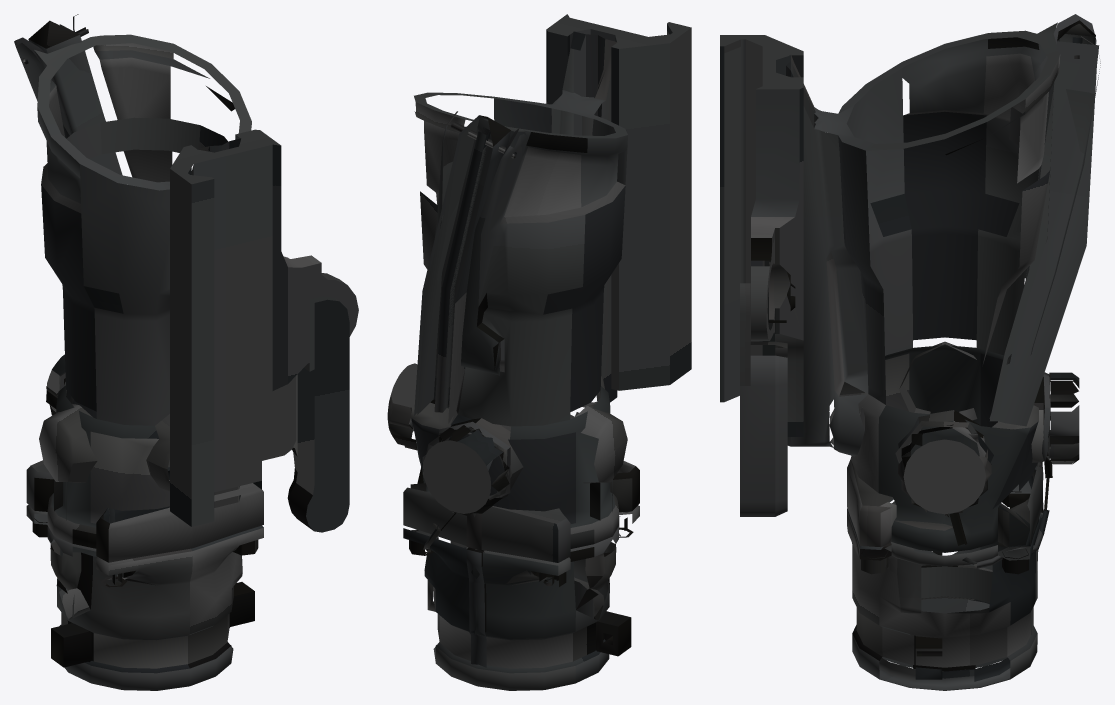
File: Optic_4x.fbx
3 views of the same model, side by side, from view 1: azimuth 30°, elevation 25°; view 2: azimuth 150°, elevation 25°; view 3: azimuth 270°, elevation 25° (orthographic). The views are drawn at different scales.
Visible parts, largest first — view 1: asset_Optic_4x.001; view 2: asset_Optic_4x.001; view 3: asset_Optic_4x.001.
Boxes of the visible parts, <box> form: asset_Optic_4x.001: <box>14,14,358,690</box>; asset_Optic_4x.001: <box>387,14,691,690</box>; asset_Optic_4x.001: <box>720,14,1100,690</box>.
Size of the model in its own units: 0.0319 by 0.084 by 0.047.
